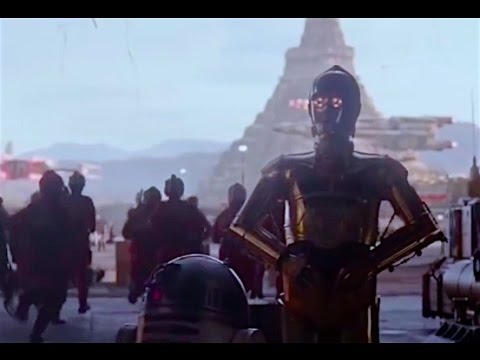r2d2: (114, 253, 264, 342)
